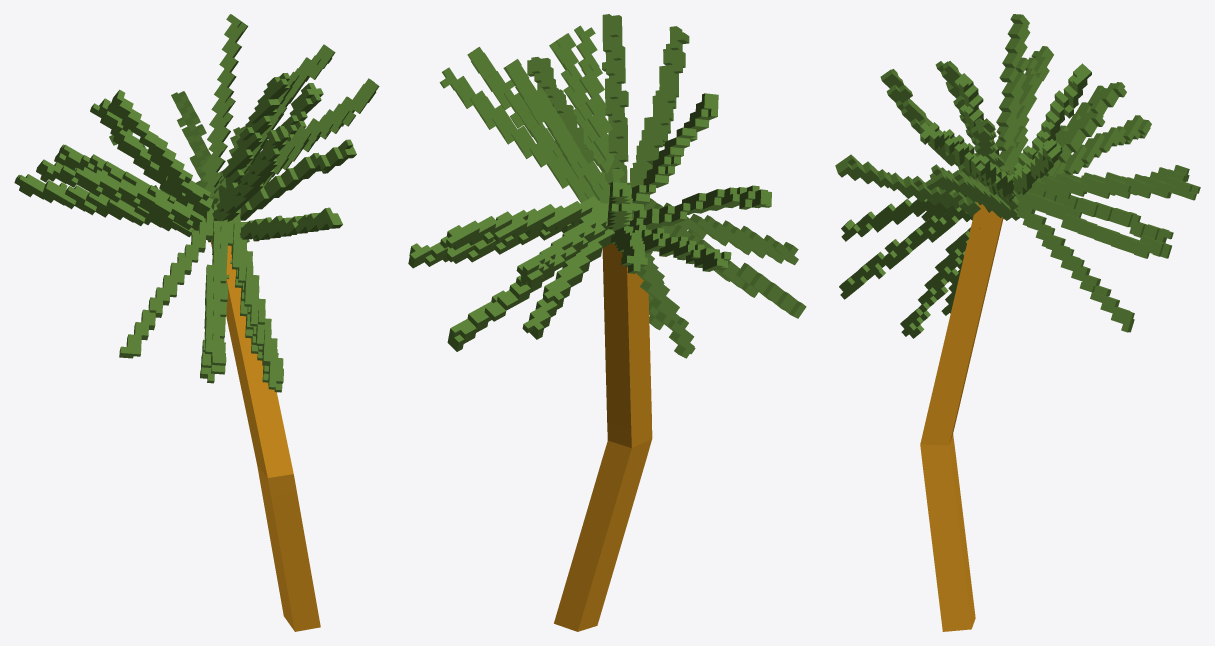
File: palm.glb
The picture shows the model from 3 angles, left to right: view 1: azimuth 30°, elevation 25°; view 2: azimuth 150°, elevation 25°; view 3: azimuth 270°, elevation 25°; orthographic projection. The views are drawn at different scales.
Visible parts, largest first — view 1: Cube.005; view 2: Cube.005; view 3: Cube.005.
Boxes of the visible parts, bbox=[...] form: Cube.005: bbox=[14, 14, 379, 631]; Cube.005: bbox=[408, 14, 806, 631]; Cube.005: bbox=[835, 14, 1200, 631].
Size of the model in its own units: 5.9 by 10.42 by 6.17.
